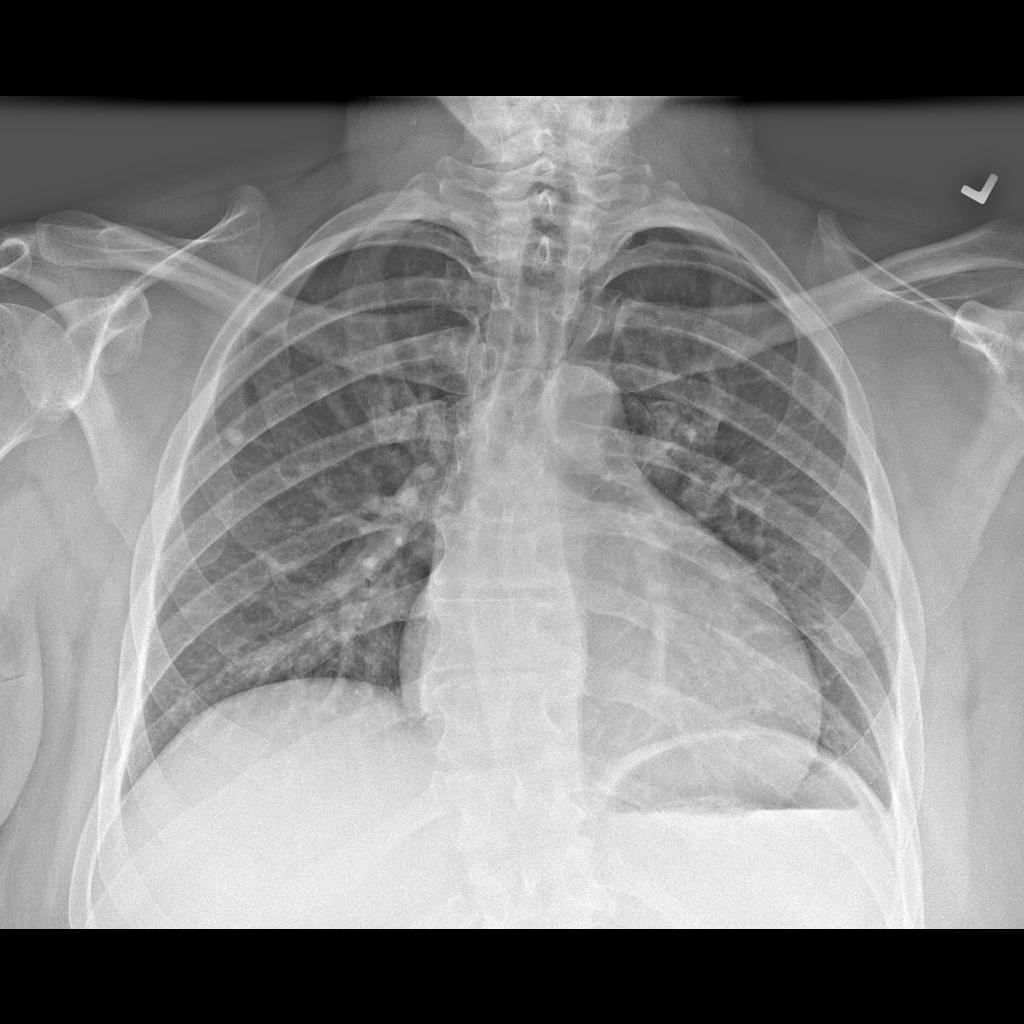Nodule: (225, 426, 256, 457)
